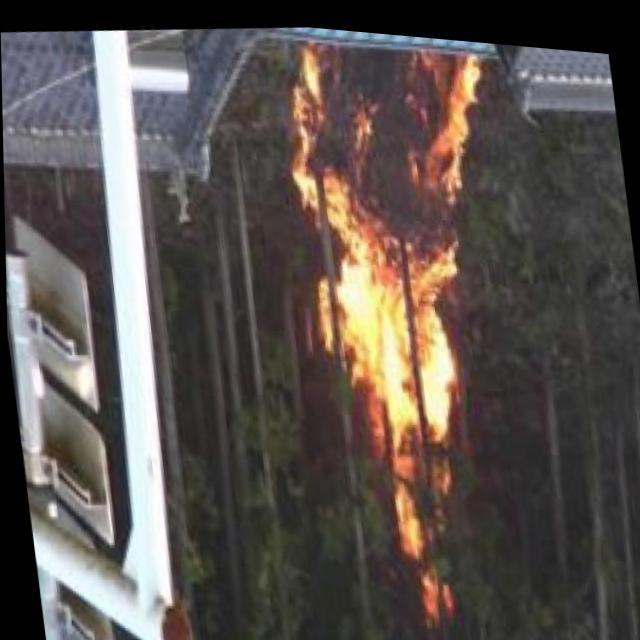Fire: (275, 24, 535, 561)
